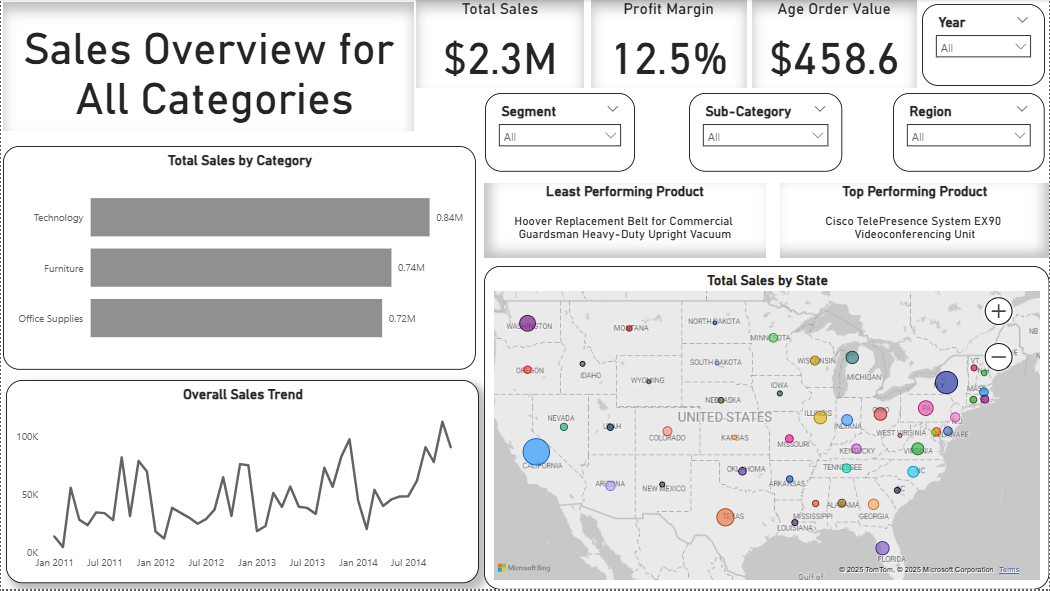

The dashboard page shown, as its layout file describes it:
{"tool":"powerbi","page":{"name":"Sales Performance Overview","canvas":[1280,720],"ordinal":0},"visuals":[{"type":"card","title":"Age Order Value","fields":{"Values":["Orders.AvgOrderValue"]},"box":[916.6,0,200.9,108.7],"z":0},{"type":"card","title":"Profit Margin","fields":{"Values":["Orders.ProfitMargin"]},"box":[719.8,0,189.9,108.7],"z":1000},{"type":"card","title":"Total Sales","fields":{"Values":["Orders.TotalSales"]},"box":[506.5,0,205.1,108.7],"z":2000},{"type":"lineChart","title":"Overall Sales Trend","fields":{"Category":["Orders.Order Date.Variation.Date Hierarchy.Year","Orders.Order Date.Variation.Date Hierarchy.Quarter","Orders.Order Date.Variation.Date Hierarchy.Month","Orders.Order Date.Variation.Date Hierarchy.Day"],"Y":["Orders.YTDSales"]},"box":[5.5,465.2,576.7,247.7],"z":3000},{"type":"clusteredBarChart","title":"Total Sales by Category","fields":{"Category":["Orders.Category"],"Y":["Sum(Orders.Sales)"]},"box":[2.8,178.9,576.7,272.5],"z":4000},{"type":"map","title":"Total Sales by State","fields":{"Series":["Orders.State"],"Category":["Orders.State"],"Size":["Sum(Orders.Sales)"]},"box":[589.6,325.9,690.4,394.8],"z":5000},{"type":"slicer","fields":{"Values":["Orders.Region"]},"box":[1088.5,114.2,184.8,95.7],"z":6000},{"type":"slicer","fields":{"Values":["Orders.Order Date.Variation.Date Hierarchy.Year"]},"box":[1124.5,5.5,150,100.5],"z":7000},{"type":"slicer","fields":{"Values":["Orders.Segment"]},"box":[590.5,114.2,183.1,96.3],"z":8000},{"type":"slicer","fields":{"Values":["Orders.Sub-Category"]},"box":[839.6,114.2,187.2,96.3],"z":9000},{"type":"card","fields":{"Values":["Orders.SelectedCategoryTitle"]},"box":[2.8,4.1,502.4,158.3],"z":10000},{"type":"card","title":"Top Performing Product","fields":{"Values":["Orders.TopProduct"]},"box":[950.8,225.1,329.2,92.4],"z":12000},{"type":"card","title":"Least Performing Product","fields":{"Values":["Orders.LeastProduct"]},"box":[589.6,225.1,344.4,92.4],"z":13000}]}

Visuals, with their boxes in screenshot pixels (x1, y1, x2, y2), scaled from the page's 1280x720 canvas onto the 1050x591 screenshot:
"Age Order Value" card: l=752, t=0, r=917, b=89
"Profit Margin" card: l=590, t=0, r=746, b=89
"Total Sales" card: l=415, t=0, r=584, b=89
"Overall Sales Trend" lineChart: l=5, t=382, r=478, b=585
"Total Sales by Category" clusteredBarChart: l=2, t=147, r=475, b=371
"Total Sales by State" map: l=484, t=268, r=1049, b=590
slicer - Orders.Region: l=893, t=94, r=1045, b=172
slicer - Orders.Order Date.Variation.Date Hierarchy.Year: l=922, t=5, r=1045, b=87
slicer - Orders.Segment: l=484, t=94, r=635, b=173
slicer - Orders.Sub-Category: l=689, t=94, r=842, b=173
card - Orders.SelectedCategoryTitle: l=2, t=3, r=414, b=133
"Top Performing Product" card: l=780, t=185, r=1049, b=261
"Least Performing Product" card: l=484, t=185, r=766, b=261
